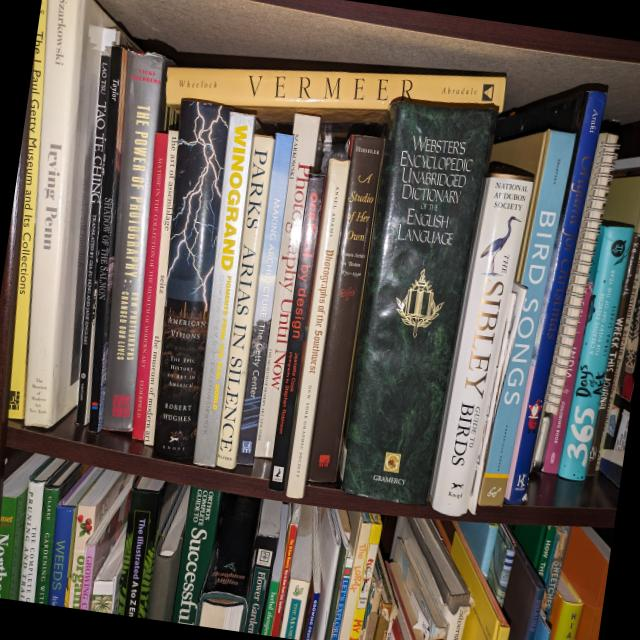book: (423, 65, 610, 507), (336, 93, 499, 508), (7, 0, 116, 431), (419, 163, 536, 519), (477, 129, 577, 510), (144, 99, 231, 461), (301, 134, 385, 485), (99, 52, 170, 433), (247, 113, 321, 459), (190, 110, 257, 468), (282, 158, 351, 501), (552, 219, 636, 484), (214, 134, 276, 471), (165, 67, 507, 127), (235, 134, 294, 467), (8, 0, 54, 420), (267, 173, 326, 491), (85, 45, 129, 433), (76, 54, 112, 426), (586, 232, 640, 477), (131, 132, 170, 441), (143, 130, 179, 446), (616, 253, 640, 366), (603, 176, 640, 233)
